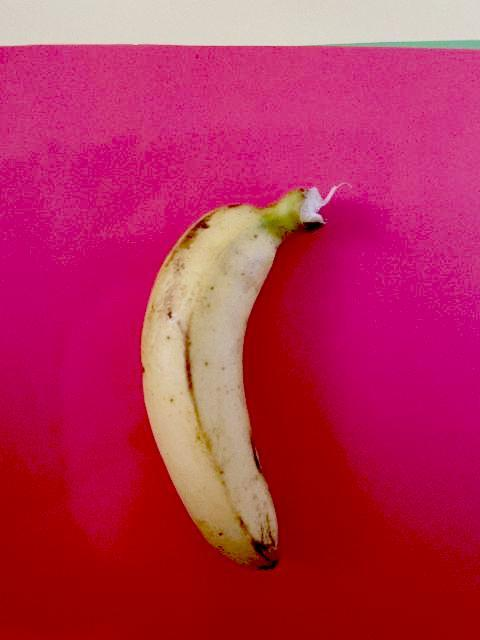banana: (140, 185, 326, 572)
